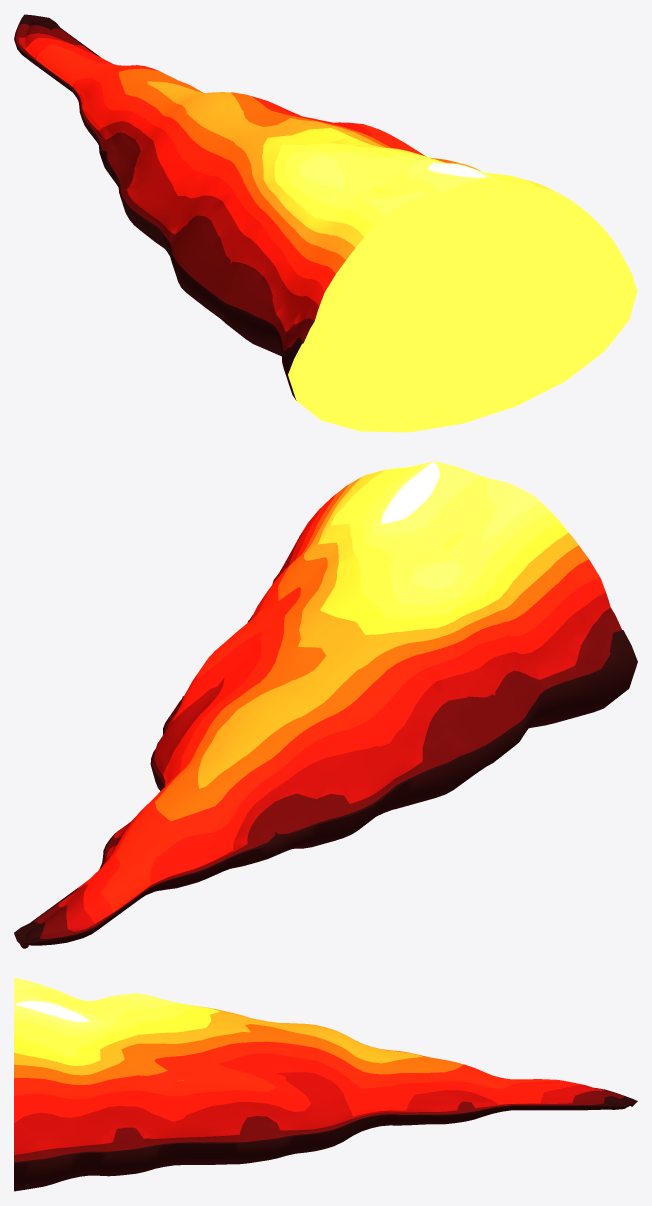
Rendered from comet_tail_205.glb.
3 views of the same model, one above another, from view 1: azimuth 30°, elevation 25°; view 2: azimuth 150°, elevation 25°; view 3: azimuth 270°, elevation 25° (orthographic). The views are drawn at different scales.
Visible parts, largest first — view 1: comet_tail_205; view 2: comet_tail_205; view 3: comet_tail_205.
Boxes of the visible parts, x1,y1,x2,y2 form: comet_tail_205: (14,14,637,432); comet_tail_205: (14,461,637,948); comet_tail_205: (14,977,637,1191).
Size of the model in its own units: 13 by 8.51 by 27.99.
